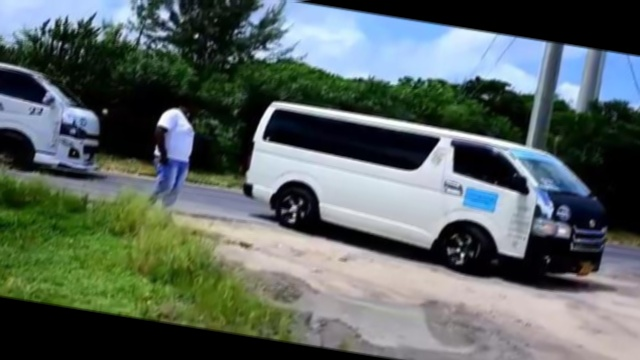van: (241, 93, 629, 290)
